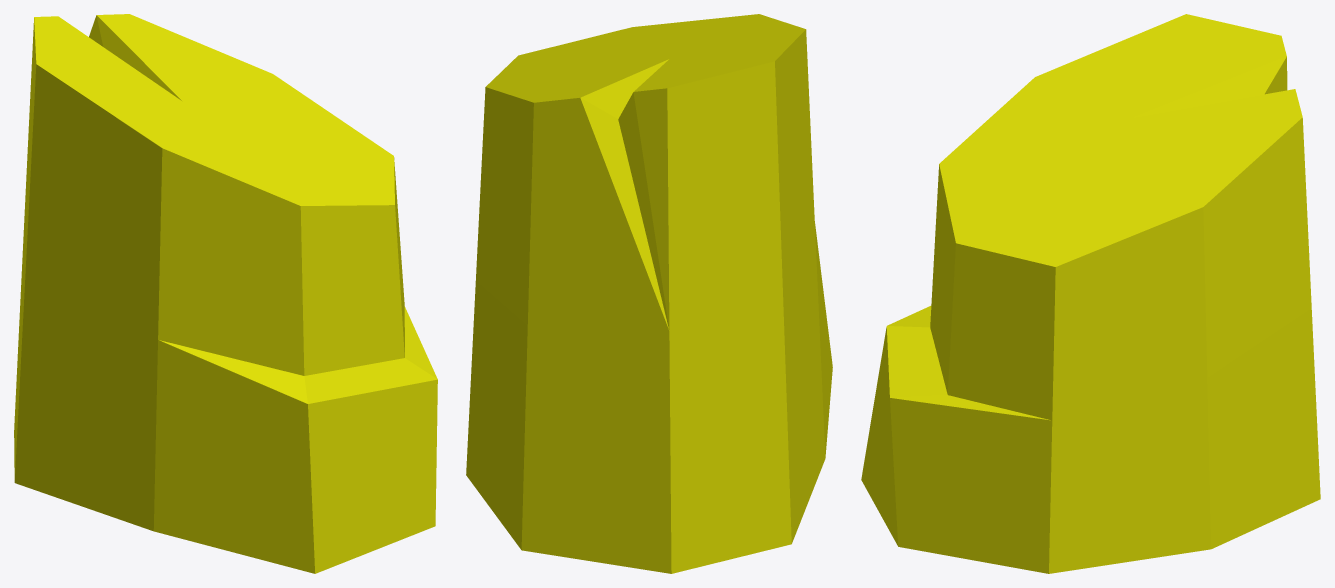
The picture shows the model from 3 angles, left to right: view 1: azimuth 30°, elevation 25°; view 2: azimuth 150°, elevation 25°; view 3: azimuth 270°, elevation 25°; orthographic projection. The views are drawn at different scales.
Parts seen in each view (by area): view 1: rock_03; view 2: rock_03; view 3: rock_03.
Boxes of the visible parts, left/top/right/bottom form: rock_03: left=14, top=14, right=437, bottom=573; rock_03: left=466, top=14, right=832, bottom=573; rock_03: left=861, top=14, right=1320, bottom=573.
Bounding box in the file's own units: 5.21 × 6.34 × 6.42.
1 material, 1 textured.
